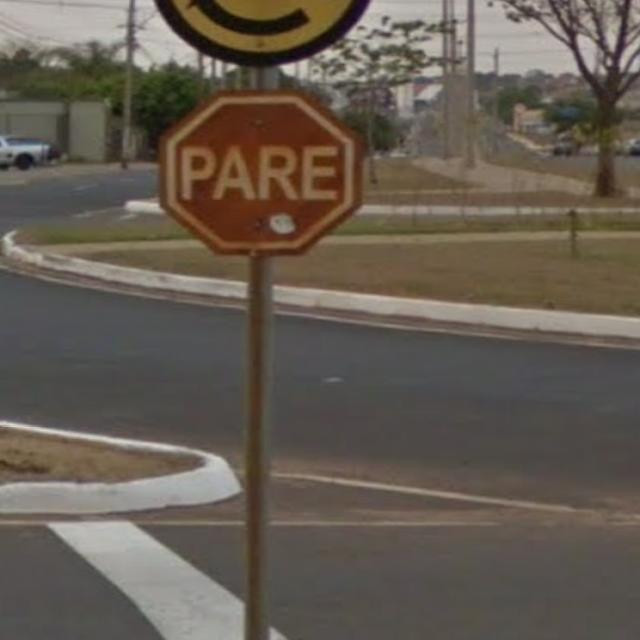stop: (140, 78, 376, 278)
